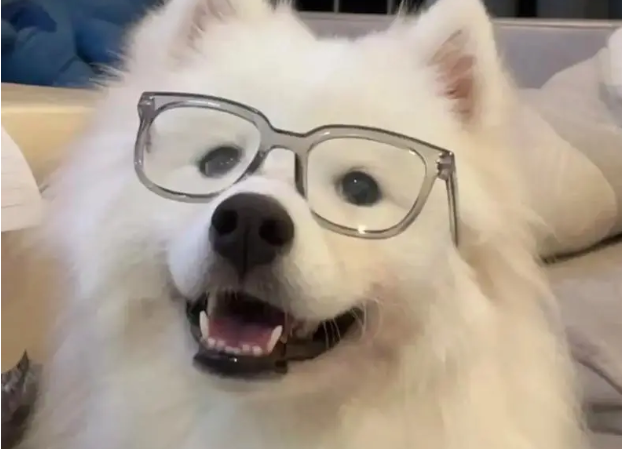glass: (119, 85, 475, 258)
